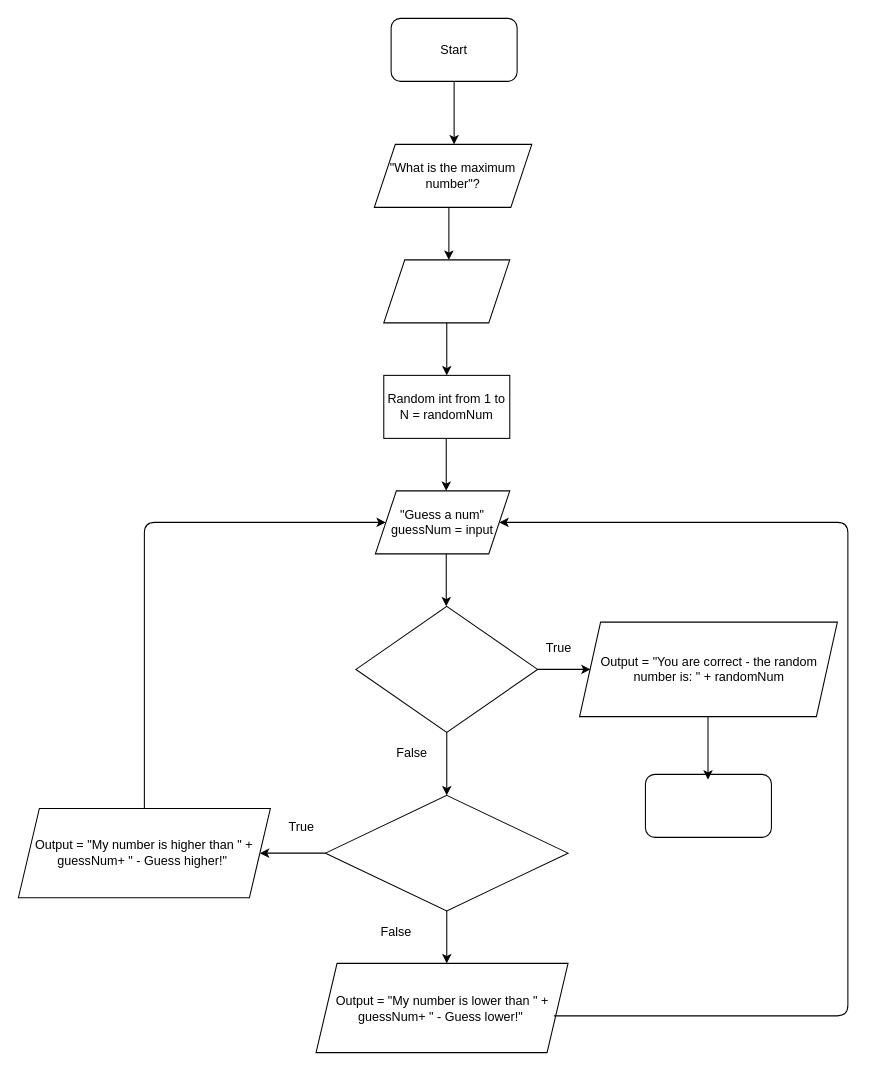
Some shapes in this 875 by 1071 pixel diagram are drawn without their labels. Here are the shapes that lost their labels. From the top down, the box of each, then its label:
(383, 259, 510, 323): N = input
(355, 605, 538, 732): guessNum==randomNum?
(644, 773, 771, 837): End
(324, 794, 568, 911): guessNum<randomNum?
